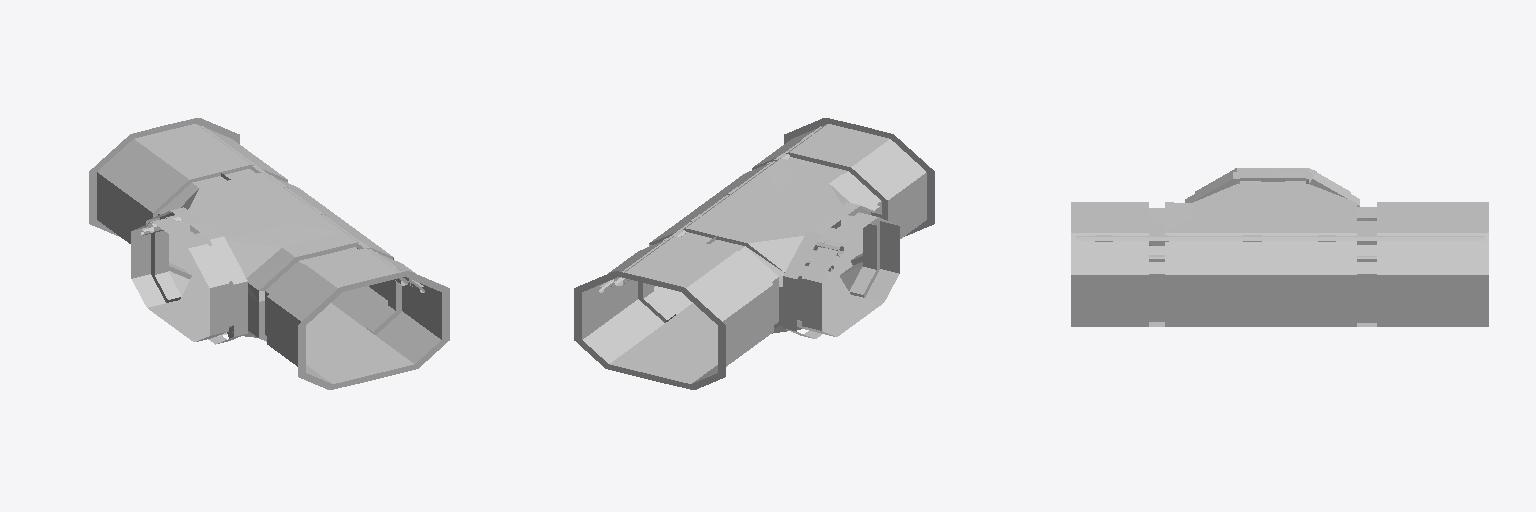
Rendered from corridore_T.obj.
3 views of the same model, side by side, from view 1: azimuth 30°, elevation 25°; view 2: azimuth 150°, elevation 25°; view 3: azimuth 270°, elevation 25° (orthographic).
Parts seen in each view (by area): view 1: Cube.001; view 2: Cube.001; view 3: Cube.001.
Boxes of the visible parts, box(x1,y1,x2,y2) form: Cube.001: box(89, 118, 449, 389); Cube.001: box(574, 118, 934, 389); Cube.001: box(1071, 168, 1488, 326).
Size of the model in its own units: 2.63 by 1.43 by 5.36.